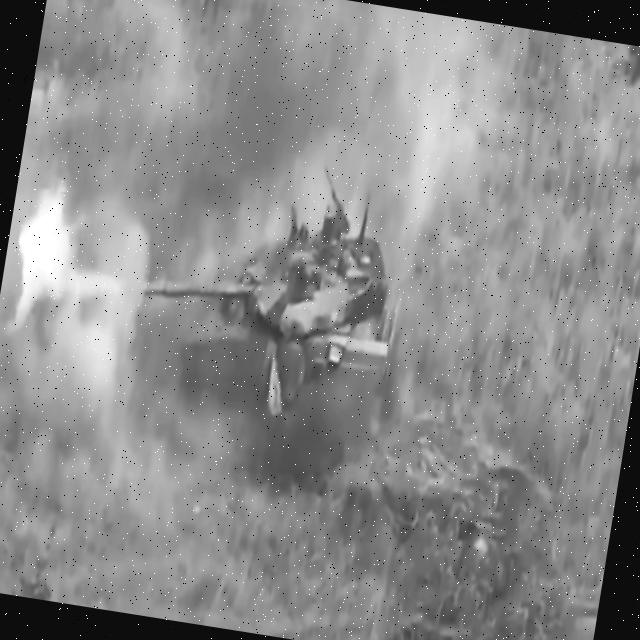MBT: (118, 142, 419, 468)
